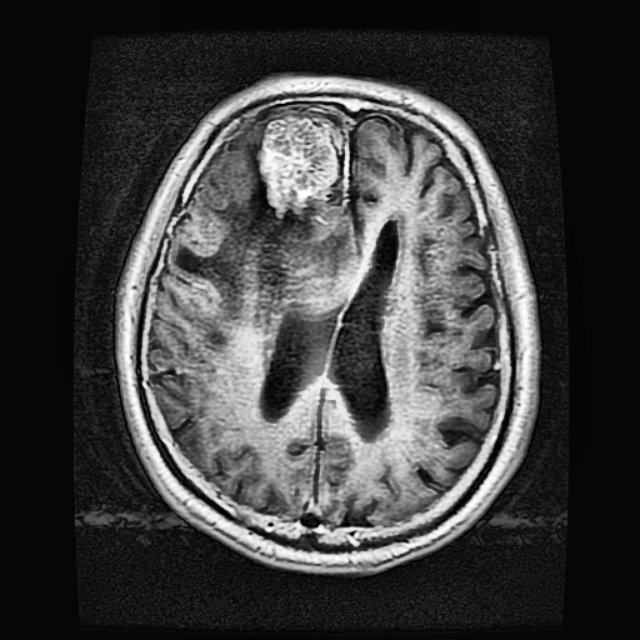Pituitary: (257, 114, 343, 215)
